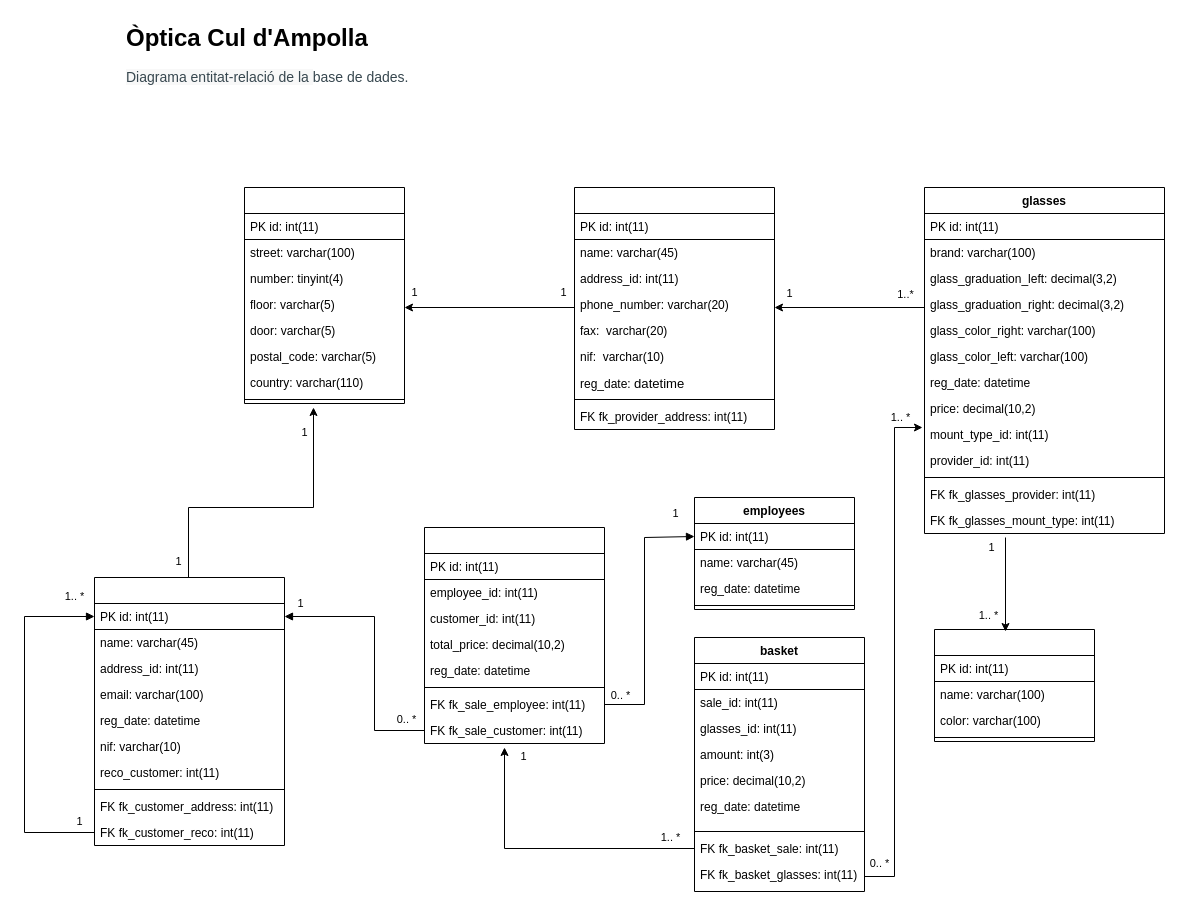
Image size: 1182x911. Some labels were removed from this diagram. The box of each missing label's shape, as (x1, y1, x2, y2) in pixels:
addresses: (244, 186, 404, 404)
customers: (94, 576, 284, 846)
mount_types: (934, 628, 1094, 742)
providers: (574, 186, 774, 430)
sales: (424, 526, 604, 744)
